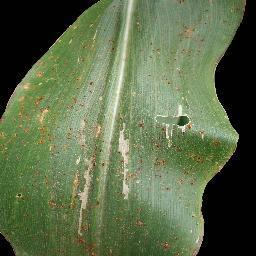Corn_Common_Rust: (0, 107, 74, 254), (25, 5, 121, 78), (140, 44, 204, 88), (3, 79, 99, 107), (74, 116, 103, 206), (151, 100, 193, 148), (115, 120, 133, 201), (134, 111, 150, 187), (74, 206, 97, 256), (226, 133, 244, 165), (151, 149, 168, 181), (192, 219, 206, 256), (186, 150, 218, 166), (176, 21, 199, 40), (231, 0, 246, 22), (180, 168, 198, 186), (192, 125, 210, 141), (212, 134, 225, 151), (133, 14, 144, 34), (132, 217, 148, 230), (160, 240, 174, 254), (201, 5, 209, 25), (161, 182, 171, 193), (174, 0, 186, 5)
